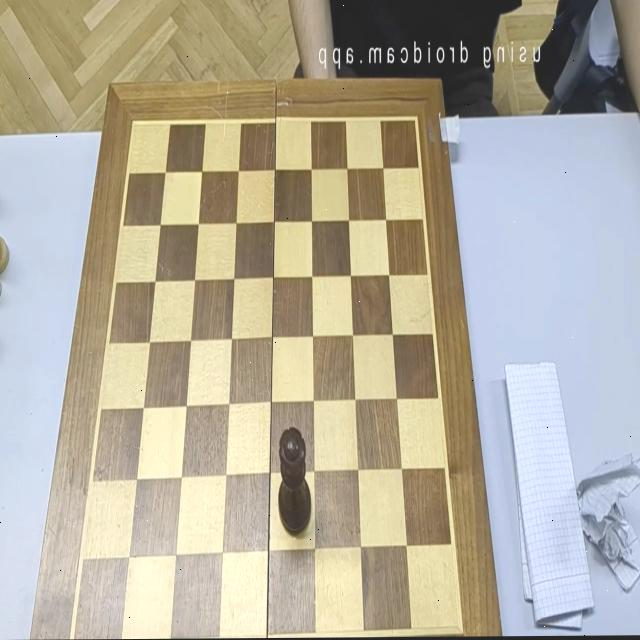black_queen: (278, 427, 312, 535)
